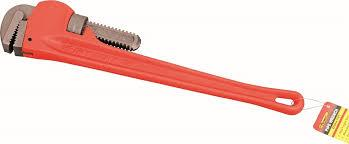wrench: (0, 0, 304, 114)
